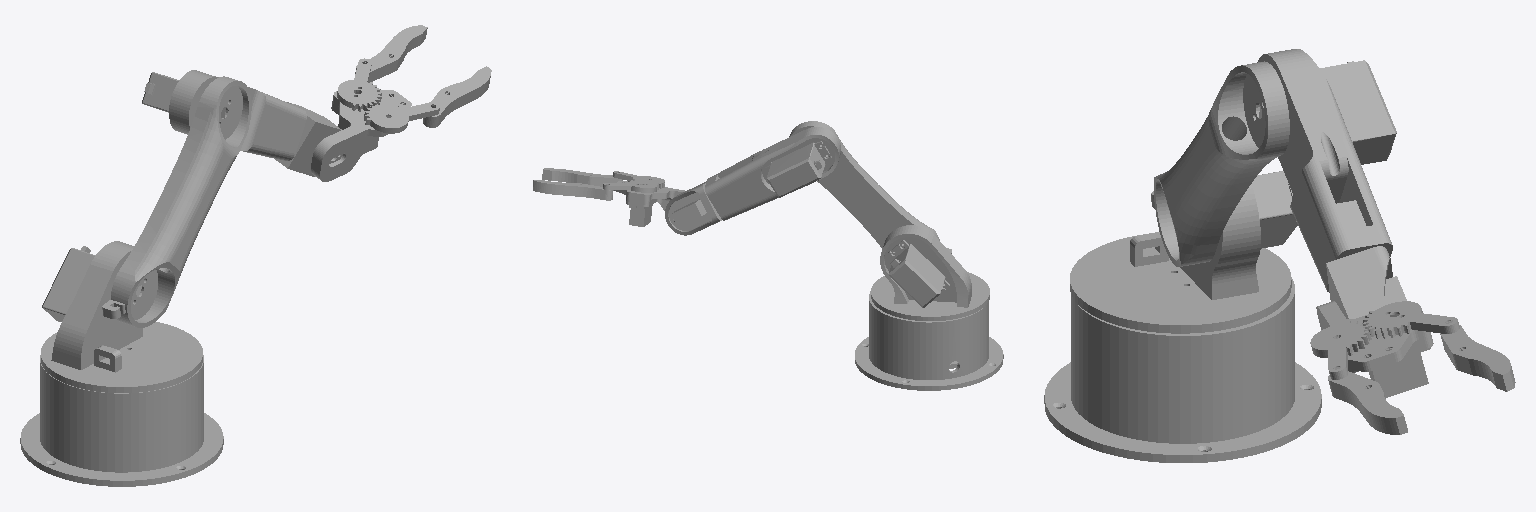
URDF robot description (robotic_arm_ml):
<?xml version="1.0" ?>
<!-- =================================================================================== -->
<!-- |    This document was autogenerated by xacro from [local-path]/ws_moveit/src/robotic_arm_ml_description/urdf/robotic_arm_ml.xacro | -->
<!-- |    EDITING THIS FILE BY HAND IS NOT RECOMMENDED                                 | -->
<!-- =================================================================================== -->
<robot name="robotic_arm_ml">
    <material name="silver">
        <color rgba="0.700 0.700 0.700 1.000" />
    </material>
    <transmission name="base_joint_tran">
        <type>transmission_interface/SimpleTransmission</type>
        <joint name="base_joint">
            <hardwareInterface>hardware_interface/EffortJointInterface</hardwareInterface>
        </joint>
        <actuator name="base_joint_actr">
            <hardwareInterface>hardware_interface/EffortJointInterface</hardwareInterface>
            <mechanicalReduction>1</mechanicalReduction>
        </actuator>
    </transmission>
    <transmission name="mid_joint_1_tran">
        <type>transmission_interface/SimpleTransmission</type>
        <joint name="mid_joint_1">
            <hardwareInterface>hardware_interface/EffortJointInterface</hardwareInterface>
        </joint>
        <actuator name="mid_joint_1_actr">
            <hardwareInterface>hardware_interface/EffortJointInterface</hardwareInterface>
            <mechanicalReduction>1</mechanicalReduction>
        </actuator>
    </transmission>
    <transmission name="mid_join_2_tran">
        <type>transmission_interface/SimpleTransmission</type>
        <joint name="mid_join_2">
            <hardwareInterface>hardware_interface/EffortJointInterface</hardwareInterface>
        </joint>
        <actuator name="mid_join_2_actr">
            <hardwareInterface>hardware_interface/EffortJointInterface</hardwareInterface>
            <mechanicalReduction>1</mechanicalReduction>
        </actuator>
    </transmission>
    <transmission name="wrist_joint_tran">
        <type>transmission_interface/SimpleTransmission</type>
        <joint name="wrist_joint">
            <hardwareInterface>hardware_interface/EffortJointInterface</hardwareInterface>
        </joint>
        <actuator name="wrist_joint_actr">
            <hardwareInterface>hardware_interface/EffortJointInterface</hardwareInterface>
            <mechanicalReduction>1</mechanicalReduction>
        </actuator>
    </transmission>
    <transmission name="hand_flip_tran">
        <type>transmission_interface/SimpleTransmission</type>
        <joint name="hand_flip">
            <hardwareInterface>hardware_interface/EffortJointInterface</hardwareInterface>
        </joint>
        <actuator name="hand_flip_actr">
            <hardwareInterface>hardware_interface/EffortJointInterface</hardwareInterface>
            <mechanicalReduction>1</mechanicalReduction>
        </actuator>
    </transmission>
    <transmission name="claw_1_tran">
        <type>transmission_interface/SimpleTransmission</type>
        <joint name="claw_1">
            <hardwareInterface>hardware_interface/EffortJointInterface</hardwareInterface>
        </joint>
        <actuator name="claw_1_actr">
            <hardwareInterface>hardware_interface/EffortJointInterface</hardwareInterface>
            <mechanicalReduction>1</mechanicalReduction>
        </actuator>
    </transmission>
    <transmission name="claw_2_tran">
        <type>transmission_interface/SimpleTransmission</type>
        <joint name="claw_2">
            <hardwareInterface>hardware_interface/EffortJointInterface</hardwareInterface>
        </joint>
        <actuator name="claw_2_actr">
            <hardwareInterface>hardware_interface/EffortJointInterface</hardwareInterface>
            <mechanicalReduction>1</mechanicalReduction>
        </actuator>
    </transmission>
    <transmission name="claw_3_tran">
        <type>transmission_interface/SimpleTransmission</type>
        <joint name="claw_3">
            <hardwareInterface>hardware_interface/EffortJointInterface</hardwareInterface>
        </joint>
        <actuator name="claw_3_actr">
            <hardwareInterface>hardware_interface/EffortJointInterface</hardwareInterface>
            <mechanicalReduction>1</mechanicalReduction>
        </actuator>
    </transmission>
    <transmission name="claw_4_tran">
        <type>transmission_interface/SimpleTransmission</type>
        <joint name="claw_4">
            <hardwareInterface>hardware_interface/EffortJointInterface</hardwareInterface>
        </joint>
        <actuator name="claw_4_actr">
            <hardwareInterface>hardware_interface/EffortJointInterface</hardwareInterface>
            <mechanicalReduction>1</mechanicalReduction>
        </actuator>
    </transmission>
    <gazebo>
        <plugin filename="libgazebo_ros_control.so" name="control" />
        <plugin name="gazebo_ros_control">
            <robotNamespace>/</robotNamespace>
        </plugin>
    </gazebo>
    <gazebo reference="base_link">
        <material>Gazebo/Silver</material>
        <mu1>0.2</mu1>
        <mu2>0.2</mu2>
        <selfCollide>true</selfCollide>
        <gravity>true</gravity>
    </gazebo>
    <gazebo reference="Waist_1_1_1">
        <material>Gazebo/Silver</material>
        <mu1>0.2</mu1>
        <mu2>0.2</mu2>
        <selfCollide>true</selfCollide>
    </gazebo>
    <gazebo reference="base_middle_arm_1">
        <material>Gazebo/Silver</material>
        <mu1>0.2</mu1>
        <mu2>0.2</mu2>
        <selfCollide>true</selfCollide>
    </gazebo>
    <gazebo reference="middleArm_1_1_1">
        <material>Gazebo/Silver</material>
        <mu1>0.2</mu1>
        <mu2>0.2</mu2>
        <selfCollide>true</selfCollide>
    </gazebo>
    <gazebo reference="miniGrip1_1_1_1">
        <material>Gazebo/Silver</material>
        <mu1>0.2</mu1>
        <mu2>0.2</mu2>
        <selfCollide>true</selfCollide>
    </gazebo>
    <gazebo reference="ServoGripMain_1_1_1">
        <material>Gazebo/Silver</material>
        <mu1>0.2</mu1>
        <mu2>0.2</mu2>
        <selfCollide>true</selfCollide>
    </gazebo>
    <gazebo reference="gear2_1">
        <material>Gazebo/Silver</material>
        <mu1>0.2</mu1>
        <mu2>0.2</mu2>
        <selfCollide>true</selfCollide>
    </gazebo>
    <gazebo reference="gear1_1">
        <material>Gazebo/Silver</material>
        <mu1>0.2</mu1>
        <mu2>0.2</mu2>
        <selfCollide>true</selfCollide>
    </gazebo>
    <gazebo reference="grip_l_1">
        <material>Gazebo/Silver</material>
        <mu1>0.2</mu1>
        <mu2>0.2</mu2>
        <selfCollide>true</selfCollide>
    </gazebo>
    <gazebo reference="grip_r_1">
        <material>Gazebo/Silver</material>
        <mu1>0.2</mu1>
        <mu2>0.2</mu2>
        <selfCollide>true</selfCollide>
    </gazebo>
    <gazebo reference="Base_1_1_1">
        <material>Gazebo/Silver</material>
        <mu1>0.2</mu1>
        <mu2>0.2</mu2>
        <selfCollide>true</selfCollide>
    </gazebo>
    <link name="base_link">
        <inertial>
            <origin rpy="0 0 0" xyz="0.26494575724145875 0.5112241468344755 0.2556334699866963" />
            <mass value="48.24266647917062" />
            <inertia ixx="0.994376" ixy="0.244477" ixz="0.033108" iyy="1.201917" iyz="-0.021919" izz="0.857059" />
        </inertial>
        <visual>
            <origin rpy="0 0 0" xyz="0 0 0" />
            <geometry>
                <mesh filename="package://robotic_arm_ml_description/meshes/base_link.stl" scale="0.001 0.001 0.001" />
            </geometry>
            <material name="silver" />
        </visual>
        <collision>
            <origin rpy="0 0 0" xyz="0 0 0" />
            <geometry>
                <mesh filename="package://robotic_arm_ml_description/meshes/base_link.stl" scale="0.001 0.001 0.001" />
            </geometry>
        </collision>
    </link>
    <link name="Waist_1_1_1">
        <inertial>
            <origin rpy="0 0 0" xyz="-0.024565581704929895 0.1447832784660097 0.22567631658809195" />
            <mass value="120.85408661023656" />
            <inertia ixx="8.718078" ixy="-0.271187" ixz="-0.499562" iyy="8.088328" iyz="-1.943235" izz="8.985416" />
        </inertial>
        <visual>
            <origin rpy="0 0 0" xyz="-0.183453 -0.565156 -0.526" />
            <geometry>
                <mesh filename="package://robotic_arm_ml_description/meshes/Waist_1_1_1.stl" scale="0.001 0.001 0.001" />
            </geometry>
            <material name="silver" />
        </visual>
        <collision>
            <origin rpy="0 0 0" xyz="-0.183453 -0.565156 -0.526" />
            <geometry>
                <mesh filename="package://robotic_arm_ml_description/meshes/Waist_1_1_1.stl" scale="0.001 0.001 0.001" />
            </geometry>
        </collision>
    </link>
    <link name="base_middle_arm_1">
        <inertial>
            <origin rpy="0 0 0" xyz="0.40246560309467133 0.08187113034220594 0.4250686648477223" />
            <mass value="91.94705403253768" />
            <inertia ixx="9.899902" ixy="-2.705761" ixz="-6.656611" iyy="15.32459" iyz="-2.75879" izz="8.276447" />
        </inertial>
        <visual>
            <origin rpy="0 0 0" xyz="-0.300699 -0.646813 -0.927348" />
            <geometry>
                <mesh filename="package://robotic_arm_ml_description/meshes/base_middle_arm_1.stl" scale="0.001 0.001 0.001" />
            </geometry>
            <material name="silver" />
        </visual>
        <collision>
            <origin rpy="0 0 0" xyz="-0.300699 -0.646813 -0.927348" />
            <geometry>
                <mesh filename="package://robotic_arm_ml_description/meshes/base_middle_arm_1.stl" scale="0.001 0.001 0.001" />
            </geometry>
        </collision>
    </link>
    <link name="middleArm_1_1_1">
        <inertial>
            <origin rpy="0 0 0" xyz="0.18660217665283785 0.2510999535270809 -0.1566854735511416" />
            <mass value="128.89539075986352" />
            <inertia ixx="6.106852" ixy="-1.655493" ixz="4.944107" iyy="13.581027" iyz="1.107081" izz="11.605685" />
        </inertial>
        <visual>
            <origin rpy="0 0 0" xyz="-1.066203 -0.962098 -1.796025" />
            <geometry>
                <mesh filename="package://robotic_arm_ml_description/meshes/middleArm_1_1_1.stl" scale="0.001 0.001 0.001" />
            </geometry>
            <material name="silver" />
        </visual>
        <collision>
            <origin rpy="0 0 0" xyz="-1.066203 -0.962098 -1.796025" />
            <geometry>
                <mesh filename="package://robotic_arm_ml_description/meshes/middleArm_1_1_1.stl" scale="0.001 0.001 0.001" />
            </geometry>
        </collision>
    </link>
    <link name="miniGrip1_1_1_1">
        <inertial>
            <origin rpy="0 0 0" xyz="0.19048555631205333 0.031018855670965184 -0.0633085747365163" />
            <mass value="33.61876172140893" />
            <inertia ixx="0.541752" ixy="-0.041096" ixz="0.111115" iyy="0.797556" iyz="0.034024" izz="0.63983" />
        </inertial>
        <visual>
            <origin rpy="0 0 0" xyz="-1.733156 -1.345584 -1.287229" />
            <geometry>
                <mesh filename="package://robotic_arm_ml_description/meshes/miniGrip1_1_1_1.stl" scale="0.001 0.001 0.001" />
            </geometry>
            <material name="silver" />
        </visual>
        <collision>
            <origin rpy="0 0 0" xyz="-1.733156 -1.345584 -1.287229" />
            <geometry>
                <mesh filename="package://robotic_arm_ml_description/meshes/miniGrip1_1_1_1.stl" scale="0.001 0.001 0.001" />
            </geometry>
        </collision>
    </link>
    <link name="ServoGripMain_1_1_1">
        <inertial>
            <origin rpy="0 0 0" xyz="0.25963337198008585 0.10992120682895212 0.05630234992107641" />
            <mass value="24.241737048934002" />
            <inertia ixx="0.578632" ixy="-0.300112" ixz="-0.150709" iyy="0.838836" iyz="-0.069104" izz="1.060248" />
        </inertial>
        <visual>
            <origin rpy="0 0 0" xyz="-2.024398 -1.28613 -1.157378" />
            <geometry>
                <mesh filename="package://robotic_arm_ml_description/meshes/ServoGripMain_1_1_1.stl" scale="0.001 0.001 0.001" />
            </geometry>
            <material name="silver" />
        </visual>
        <collision>
            <origin rpy="0 0 0" xyz="-2.024398 -1.28613 -1.157378" />
            <geometry>
                <mesh filename="package://robotic_arm_ml_description/meshes/ServoGripMain_1_1_1.stl" scale="0.001 0.001 0.001" />
            </geometry>
        </collision>
    </link>
    <link name="gear2_1">
        <inertial>
            <origin rpy="0 0 0" xyz="0.05245047172393358 0.017489245072558113 0.023866764379942174" />
            <mass value="20.19894966072849" />
            <inertia ixx="0.130076" ixy="-0.095367" ixz="-0.01914" iyy="0.233485" iyz="-0.026943" izz="0.345835" />
        </inertial>
        <visual>
            <origin rpy="0 0 0" xyz="-2.348703 -1.510794 -1.36249" />
            <geometry>
                <mesh filename="package://robotic_arm_ml_description/meshes/gear2_1.stl" scale="0.001 0.001 0.001" />
            </geometry>
            <material name="silver" />
        </visual>
        <collision>
            <origin rpy="0 0 0" xyz="-2.348703 -1.510794 -1.36249" />
            <geometry>
                <mesh filename="package://robotic_arm_ml_description/meshes/gear2_1.stl" scale="0.001 0.001 0.001" />
            </geometry>
        </collision>
    </link>
    <link name="gear1_1">
        <inertial>
            <origin rpy="0 0 0" xyz="0.055965803200417774 0.0012460645258820513 0.019884393318024385" />
            <mass value="20.74572403474325" />
            <inertia ixx="0.070609" ixy="0.006718" ixz="0.006587" iyy="0.290152" iyz="-0.014948" izz="0.347769" />
        </inertial>
        <visual>
            <origin rpy="0 0 0" xyz="-2.417925 -1.25883 -1.287838" />
            <geometry>
                <mesh filename="package://robotic_arm_ml_description/meshes/gear1_1.stl" scale="0.001 0.001 0.001" />
            </geometry>
            <material name="silver" />
        </visual>
        <collision>
            <origin rpy="0 0 0" xyz="-2.417925 -1.25883 -1.287838" />
            <geometry>
                <mesh filename="package://robotic_arm_ml_description/meshes/gear1_1.stl" scale="0.001 0.001 0.001" />
            </geometry>
        </collision>
    </link>
    <link name="grip_l_1">
        <inertial>
            <origin rpy="0 0 0" xyz="0.2706683605482607 0.013063963451428906 -0.04532529976955657" />
            <mass value="42.713523097289055" />
            <inertia ixx="0.080906" ixy="-0.108447" ixz="-0.003767" iyy="1.329192" iyz="-0.004939" izz="1.356411" />
        </inertial>
        <visual>
            <origin rpy="0 0 0" xyz="-2.615442 -1.658509 -1.393468" />
            <geometry>
                <mesh filename="package://robotic_arm_ml_description/meshes/grip_l_1.stl" scale="0.001 0.001 0.001" />
            </geometry>
            <material name="silver" />
        </visual>
        <collision>
            <origin rpy="0 0 0" xyz="-2.615442 -1.658509 -1.393468" />
            <geometry>
                <mesh filename="package://robotic_arm_ml_description/meshes/grip_l_1.stl" scale="0.001 0.001 0.001" />
            </geometry>
        </collision>
    </link>
    <link name="grip_r_1">
        <inertial>
            <origin rpy="0 0 0" xyz="0.2399947809301035 0.13344999063086305 -0.015700363004030438" />
            <mass value="42.712764988705295" />
            <inertia ixx="0.269262" ixy="-0.450721" ixz="-0.08978" iyy="1.148423" iyz="-0.042607" izz="1.348817" />
        </inertial>
        <visual>
            <origin rpy="0 0 0" xyz="-2.725721 -1.256628 -1.281895" />
            <geometry>
                <mesh filename="package://robotic_arm_ml_description/meshes/grip_r_1.stl" scale="0.001 0.001 0.001" />
            </geometry>
            <material name="silver" />
        </visual>
        <collision>
            <origin rpy="0 0 0" xyz="-2.725721 -1.256628 -1.281895" />
            <geometry>
                <mesh filename="package://robotic_arm_ml_description/meshes/grip_r_1.stl" scale="0.001 0.001 0.001" />
            </geometry>
        </collision>
    </link>
    <link name="Base_1_1_1">
        <inertial>
            <origin rpy="0 0 0" xyz="-0.46702007999986483 0.5092585509027819 0.39758430195992317" />
            <mass value="113.84818311476913" />
            <inertia ixx="15.534832" ixy="0.539873" ixz="-0.379704" iyy="15.919459" iyz="0.267857" izz="24.616724" />
        </inertial>
        <visual>
            <origin rpy="0 0 0" xyz="-0.656619 -0.066945 0.214602" />
            <geometry>
                <mesh filename="package://robotic_arm_ml_description/meshes/Base_1_1_1.stl" scale="0.001 0.001 0.001" />
            </geometry>
            <material name="silver" />
        </visual>
        <collision>
            <origin rpy="0 0 0" xyz="-0.656619 -0.066945 0.214602" />
            <geometry>
                <mesh filename="package://robotic_arm_ml_description/meshes/Base_1_1_1.stl" scale="0.001 0.001 0.001" />
            </geometry>
        </collision>
    </link>
    <joint name="base_joint" type="continuous">
        <origin rpy="0 0 0" xyz="0.183453 0.565156 0.526" />
        <parent link="base_link" />
        <child link="Waist_1_1_1" />
        <axis xyz="-0.0 0.0 1.0" />
    </joint>
    <joint name="mid_joint_1" type="revolute">
        <origin rpy="0 0 0" xyz="0.117246 0.081657 0.401348" />
        <parent link="Waist_1_1_1" />
        <child link="base_middle_arm_1" />
        <axis xyz="0.38083 -0.924645 0.0" />
        <limit effort="100" lower="-0.349066" upper="2.617994" velocity="100" />
    </joint>
    <joint name="mid_join_2" type="revolute">
        <origin rpy="0 0 0" xyz="0.765504 0.315285 0.868677" />
        <parent link="base_middle_arm_1" />
        <child link="middleArm_1_1_1" />
        <axis xyz="-0.380831 0.924645 0.0" />
        <limit effort="100" lower="-3.228859" upper="1.308997" velocity="100" />
    </joint>
    <joint name="wrist_joint" type="continuous">
        <origin rpy="0 0 0" xyz="0.666953 0.383486 -0.508796" />
        <parent link="middleArm_1_1_1" />
        <child link="miniGrip1_1_1_1" />
        <axis xyz="0.799015 0.329018 -0.503311" />
    </joint>
    <joint name="hand_flip" type="revolute">
        <origin rpy="0 0 0" xyz="0.291242 -0.059454 -0.129851" />
        <parent link="miniGrip1_1_1_1" />
        <child link="ServoGripMain_1_1_1" />
        <axis xyz="0.242022 -0.942125 -0.232006" />
        <limit effort="100" lower="-2.617994" upper="1.22173" velocity="100" />
    </joint>
    <joint name="claw_1" type="revolute">
        <origin rpy="0 0 0" xyz="0.324305 0.224664 0.205112" />
        <parent link="ServoGripMain_1_1_1" />
        <child link="gear2_1" />
        <axis xyz="0.017083 -0.234654 0.971929" />
        <limit effort="100" lower="0.174533" upper="0.610865" velocity="100" />
    </joint>
    <joint name="claw_2" type="revolute">
        <origin rpy="0 0 0" xyz="0.393527 -0.0273 0.13046" />
        <parent link="ServoGripMain_1_1_1" />
        <child link="gear1_1" />
        <axis xyz="0.017079 -0.234941 0.97186" />
        <limit effort="100" lower="0.0" upper="0.890118" velocity="100" />
    </joint>
    <joint name="claw_3" type="continuous">
        <origin rpy="0 0 0" xyz="0.266739 0.147715 0.030978" />
        <parent link="gear2_1" />
        <child link="grip_l_1" />
        <axis xyz="-0.017057 0.234634 -0.971934" />
    </joint>
    <joint name="claw_4" type="continuous">
        <origin rpy="0 0 0" xyz="0.307796 -0.002202 -0.005943" />
        <parent link="gear1_1" />
        <child link="grip_r_1" />
        <axis xyz="-0.017114 0.23491 -0.971867" />
    </joint>
    <joint name="baseto_base_link" type="fixed">
        <origin rpy="0 0 0" xyz="0.656619 0.066945 -0.214602" />
        <parent link="base_link" />
        <child link="Base_1_1_1" />
    </joint>
</robot>

--- What the picture shows (computed from the rendered views, not written in the file) ---
Views: 3 orthographic renders of the robot side by side, from view 1: azimuth 30°, elevation 25°; view 2: azimuth 150°, elevation 25°; view 3: azimuth 270°, elevation 25°.
Model robotic_arm_ml with 11 links and 10 joints (5 revolute, 4 continuous, 1 fixed), rooted at base_link, posed all joints at 0 but 1 set to mid-range because 0 is outside their limits (claw_1 = 0.3927).
Links seen in each view (by area): view 1: Base_1_1_1, Waist_1_1_1, base_middle_arm_1, middleArm_1_1_1, ServoGripMain_1_1_1, grip_r_1, gear1_1, grip_l_1, miniGrip1_1_1_1, gear2_1; view 2: Base_1_1_1, Waist_1_1_1, middleArm_1_1_1, base_middle_arm_1, miniGrip1_1_1_1, ServoGripMain_1_1_1, grip_l_1, grip_r_1; view 3: Base_1_1_1, Waist_1_1_1, middleArm_1_1_1, base_middle_arm_1, ServoGripMain_1_1_1, miniGrip1_1_1_1, grip_r_1, grip_l_1, gear2_1, gear1_1.
Link boxes in pixels (x1,y1,x2,y2): Base_1_1_1: (20, 355, 223, 486); Waist_1_1_1: (41, 241, 202, 392); base_middle_arm_1: (102, 76, 251, 327); middleArm_1_1_1: (142, 70, 306, 160); ServoGripMain_1_1_1: (311, 90, 411, 181); grip_r_1: (423, 66, 491, 127); gear1_1: (364, 101, 439, 133); grip_l_1: (355, 25, 427, 82); miniGrip1_1_1_1: (275, 102, 341, 176); gear2_1: (337, 58, 381, 111); Base_1_1_1: (855, 291, 1003, 390); Waist_1_1_1: (871, 225, 989, 320); middleArm_1_1_1: (705, 127, 840, 220); base_middle_arm_1: (789, 121, 951, 253); miniGrip1_1_1_1: (665, 181, 721, 235); ServoGripMain_1_1_1: (614, 181, 684, 226); grip_l_1: (533, 180, 613, 200); grip_r_1: (542, 168, 622, 186); Base_1_1_1: (1044, 279, 1321, 462); Waist_1_1_1: (1070, 171, 1297, 333); middleArm_1_1_1: (1257, 49, 1396, 292); base_middle_arm_1: (1151, 61, 1289, 266); ServoGripMain_1_1_1: (1316, 301, 1433, 397); miniGrip1_1_1_1: (1326, 246, 1406, 318); grip_r_1: (1328, 371, 1407, 434); grip_l_1: (1440, 325, 1515, 391); gear2_1: (1362, 301, 1459, 338); gear1_1: (1310, 321, 1371, 379).
Size in the robot's own frame: 3.69 by 2.06 by 2.06 metres.
Meshes: 11 distinct files referenced, 11 mesh visuals loaded (11 binary STL).